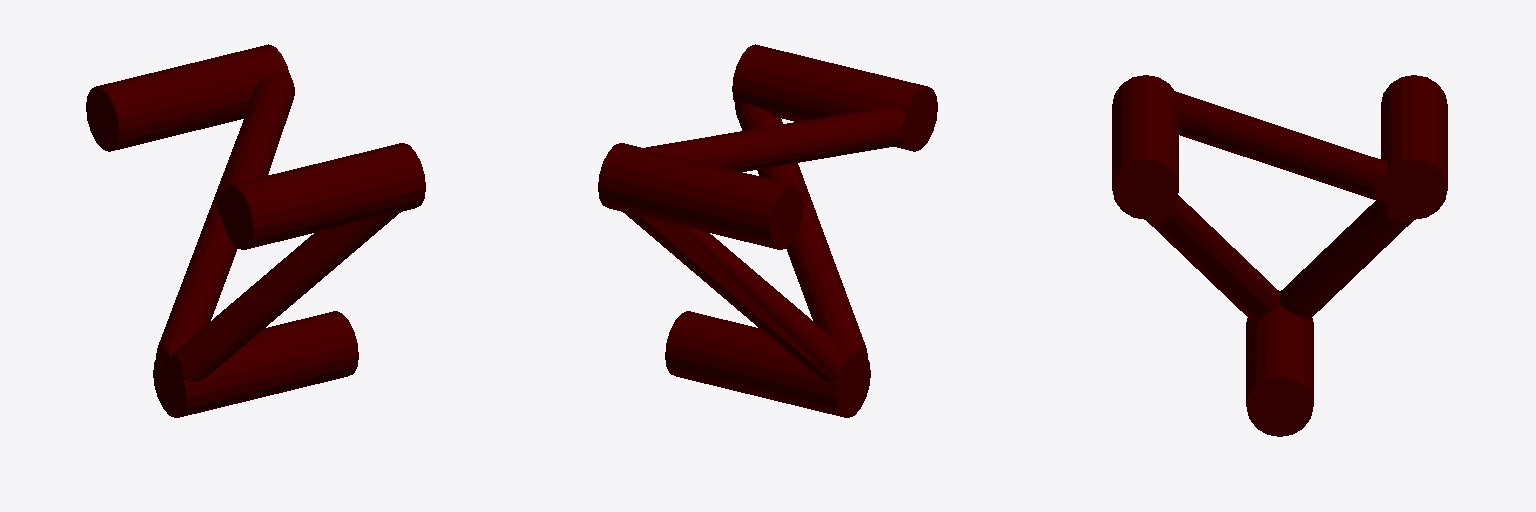
The model's file is track.obj.
The picture shows the model from 3 angles: view 1: azimuth 30°, elevation 25°; view 2: azimuth 150°, elevation 25°; view 3: azimuth 270°, elevation 25°; orthographic projection.
Bounding box in the file's own units: 0.6848 × 1.06 × 1.16.